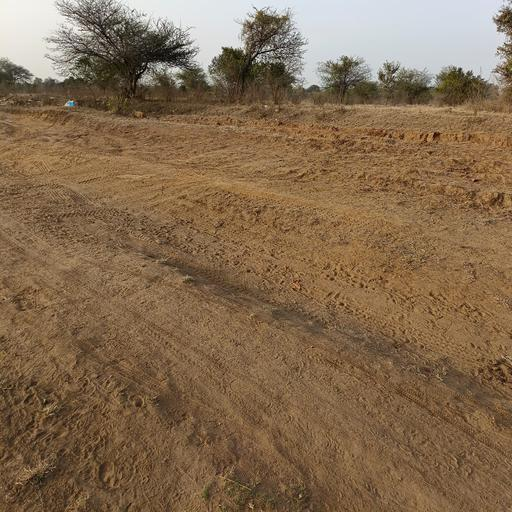vehicle_track: (0, 207, 512, 512), (115, 195, 512, 361)
